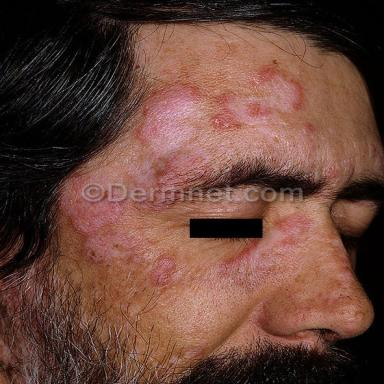Lupus-Erythematosus-Chronicus-Discoides: (130, 67, 303, 187), (60, 175, 145, 263), (222, 214, 314, 279), (151, 257, 175, 285)
